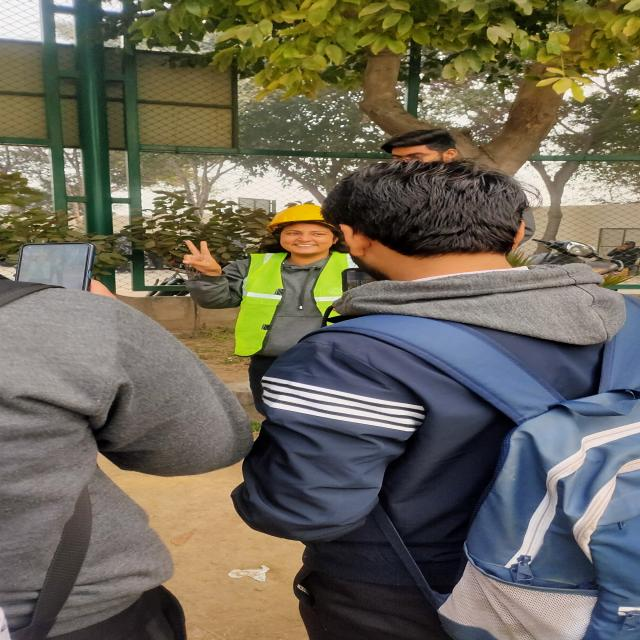safe: (238, 206, 348, 364)
unsafe: (324, 157, 640, 637)
